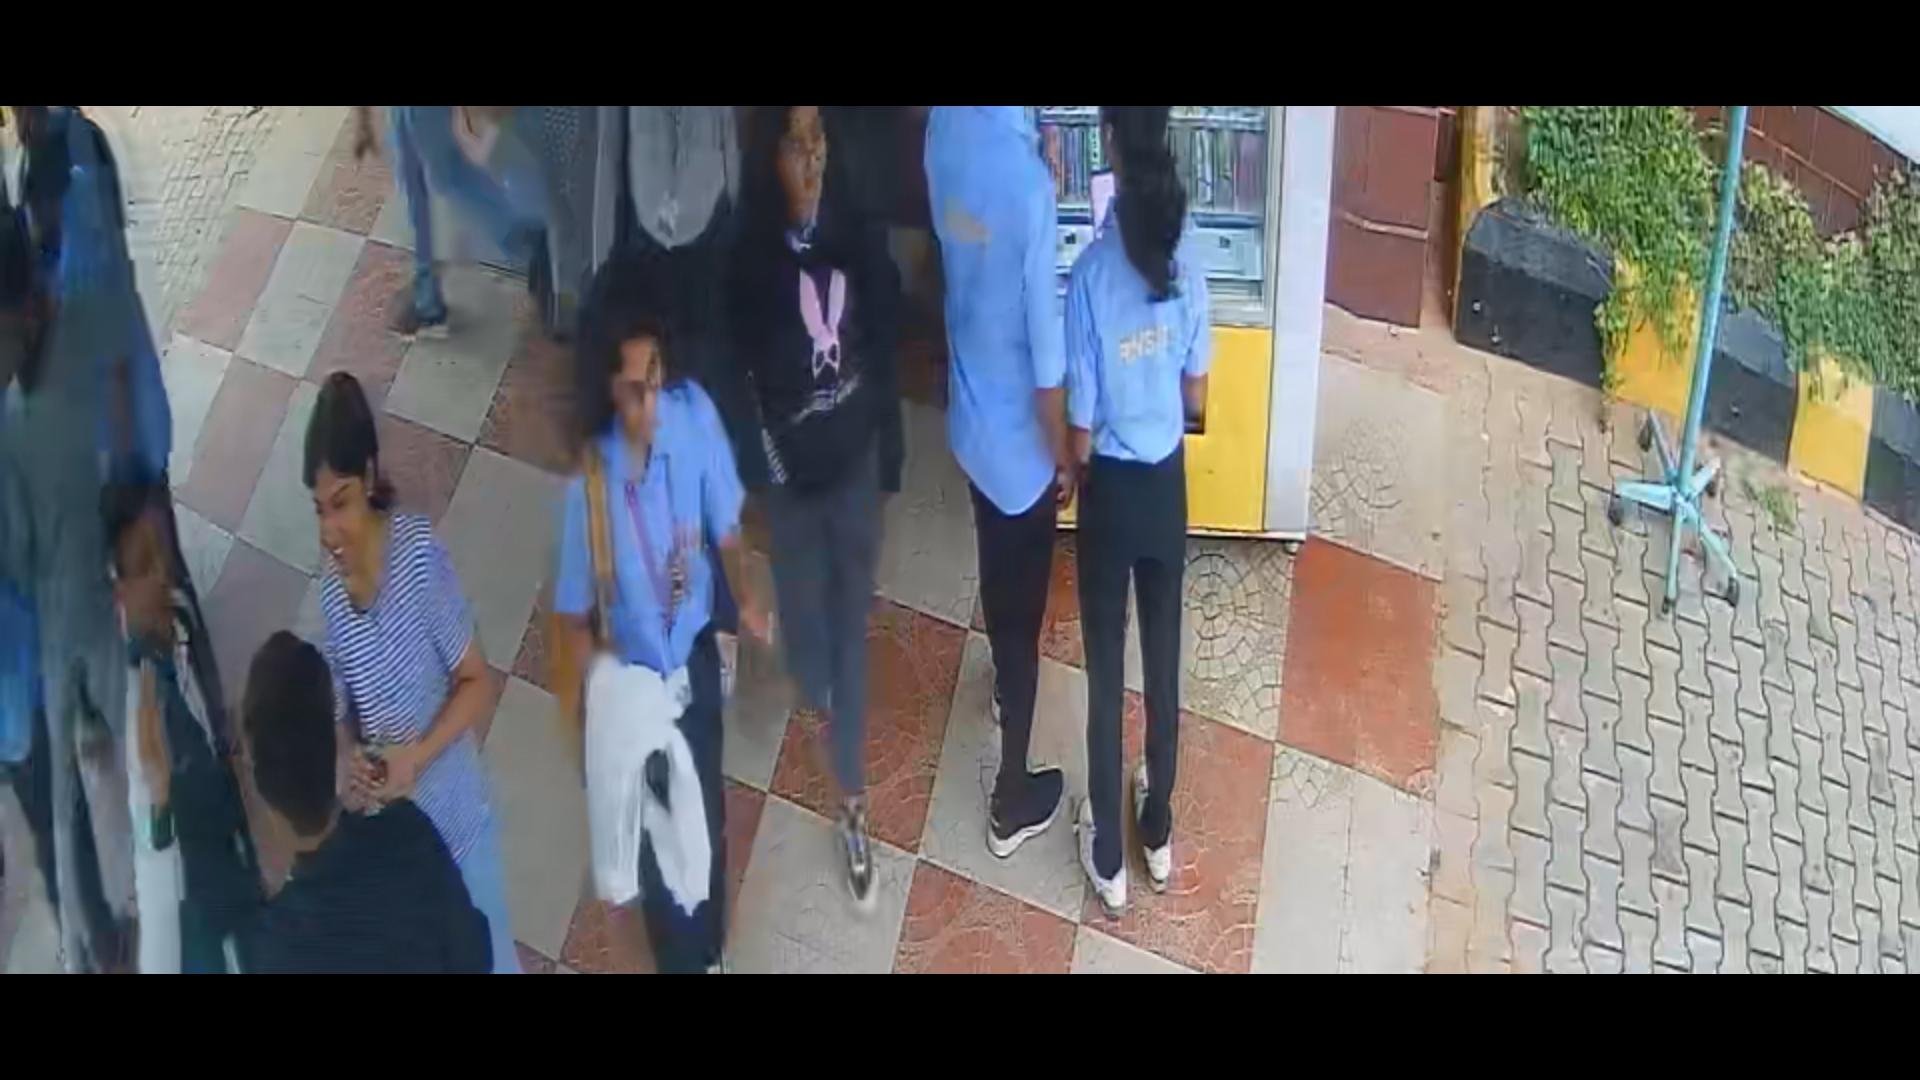intruder: (278, 361, 516, 989), (735, 105, 909, 920), (88, 472, 253, 984)
not intruder: (550, 299, 764, 965)
